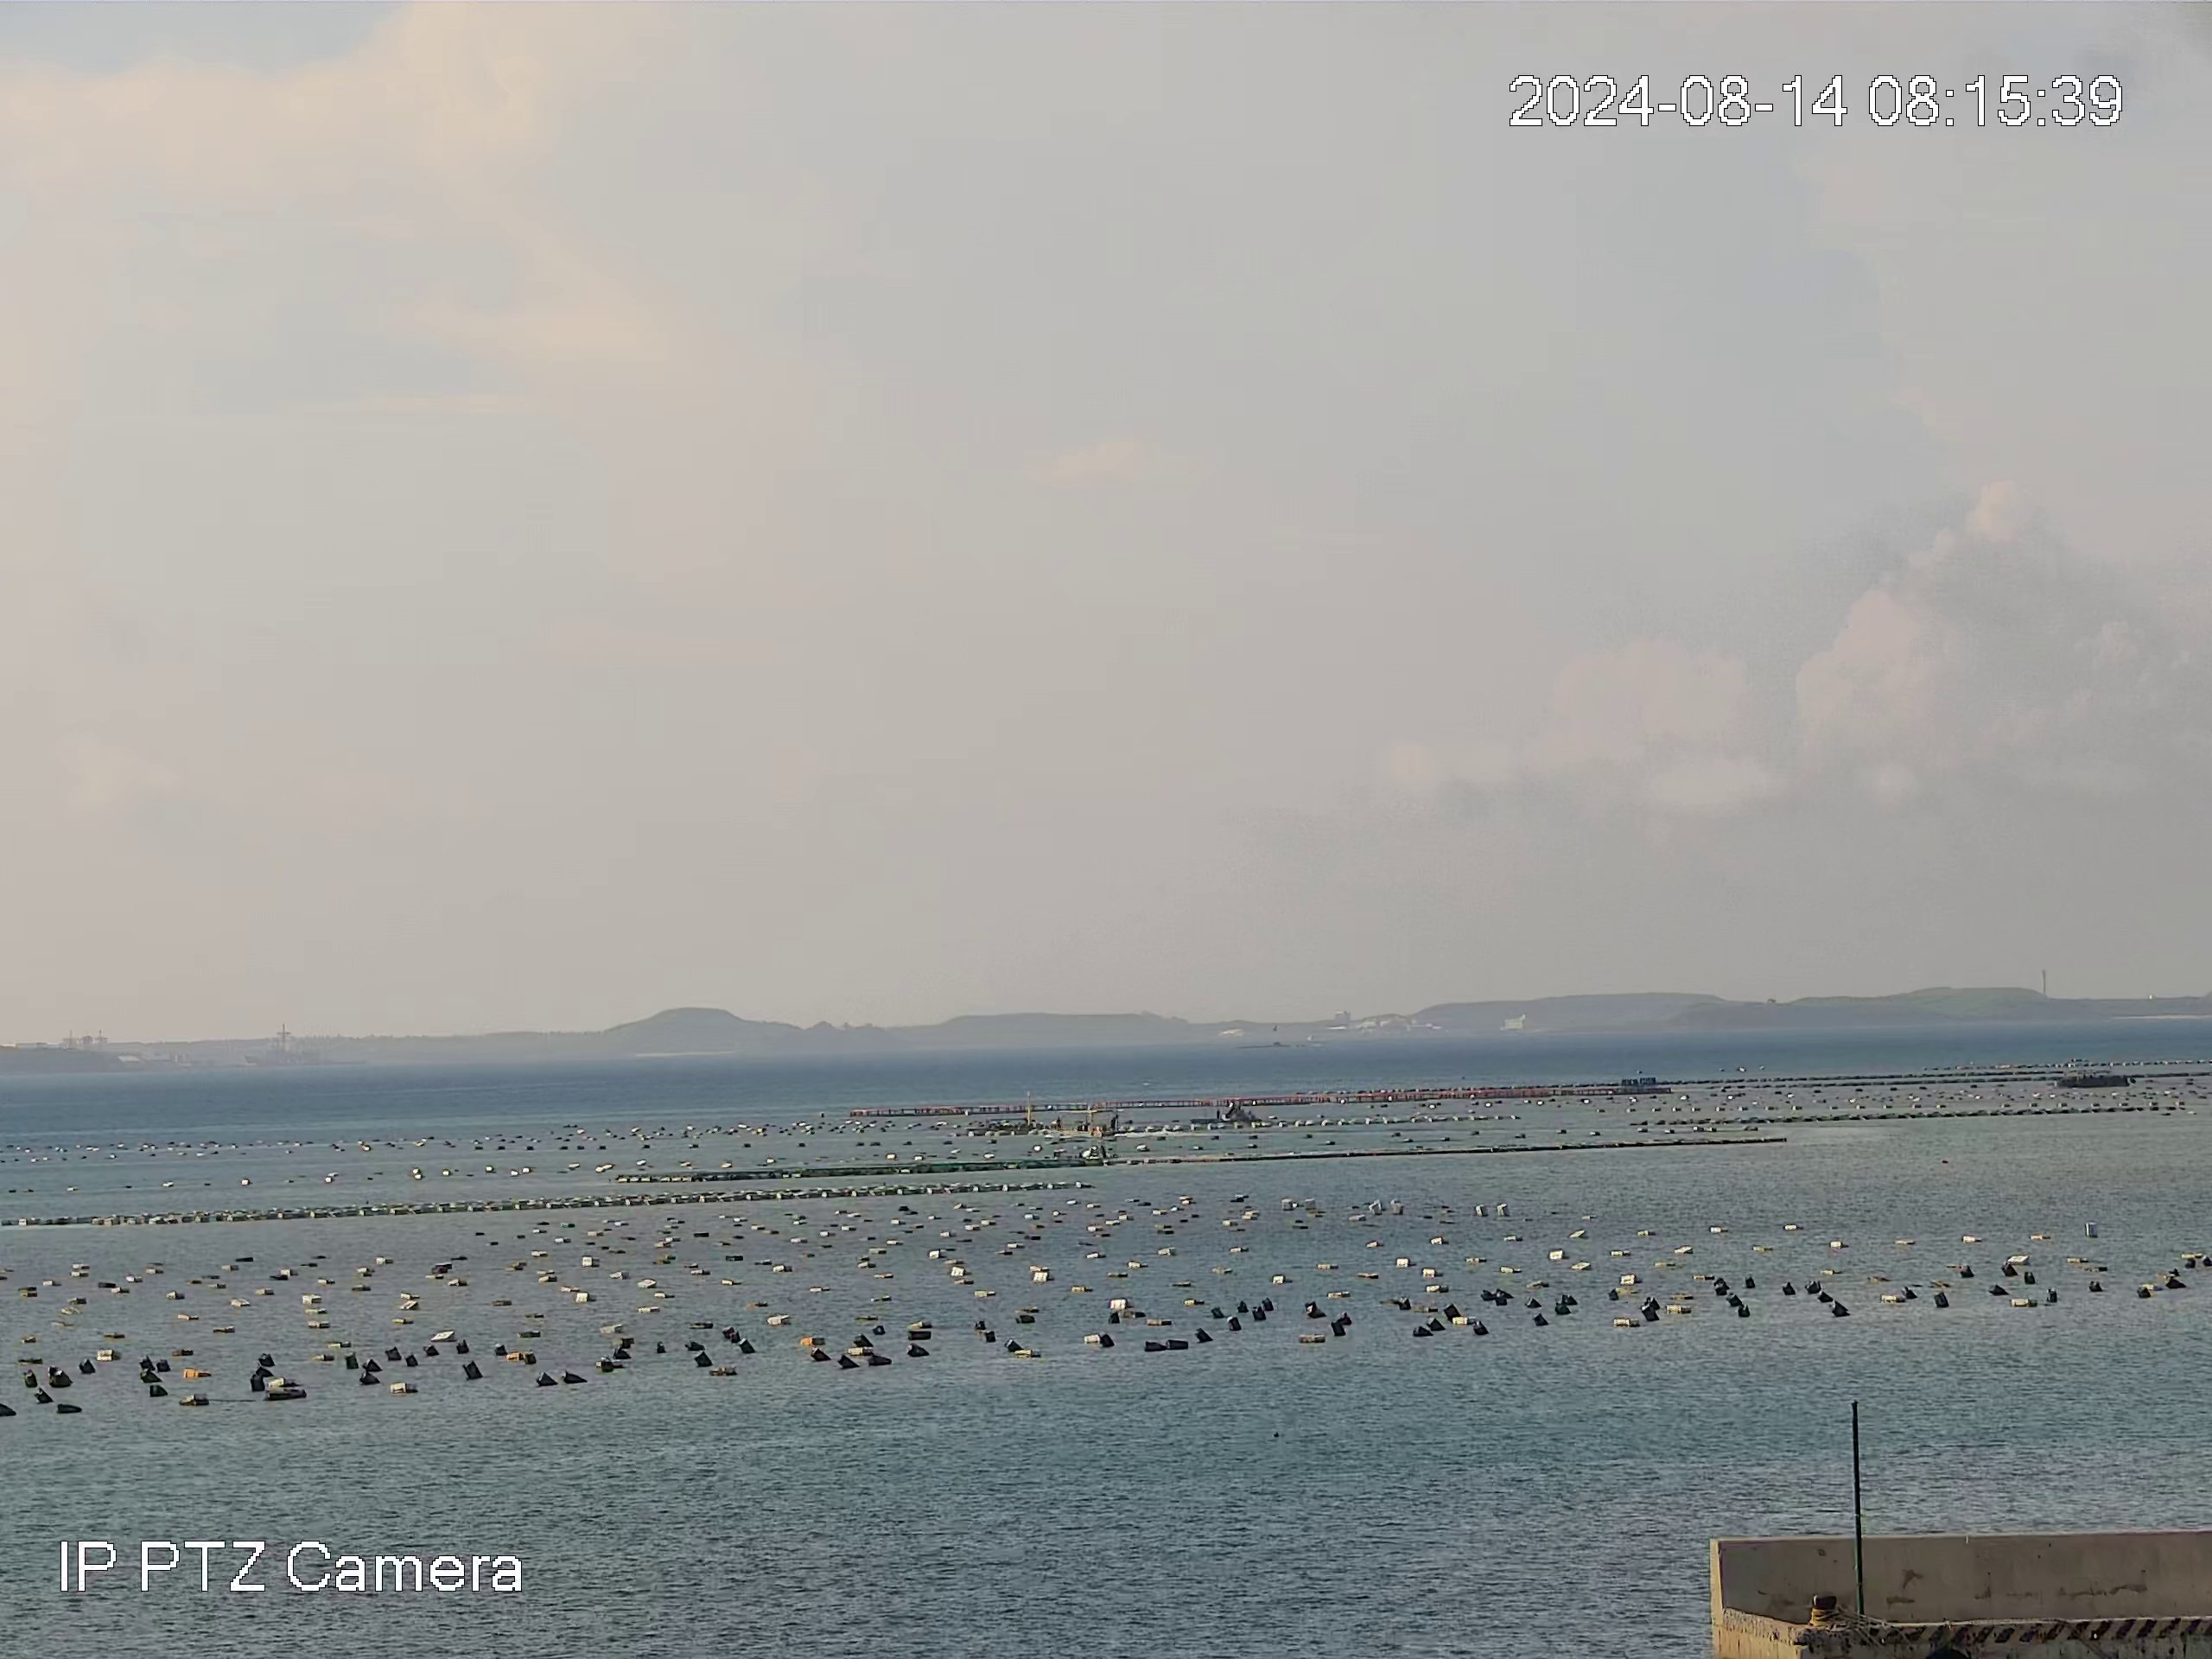boat: (1049, 1107, 1123, 1136), (2057, 1065, 2132, 1089)
